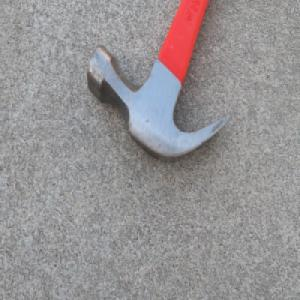Hammer: (83, 0, 235, 165)
